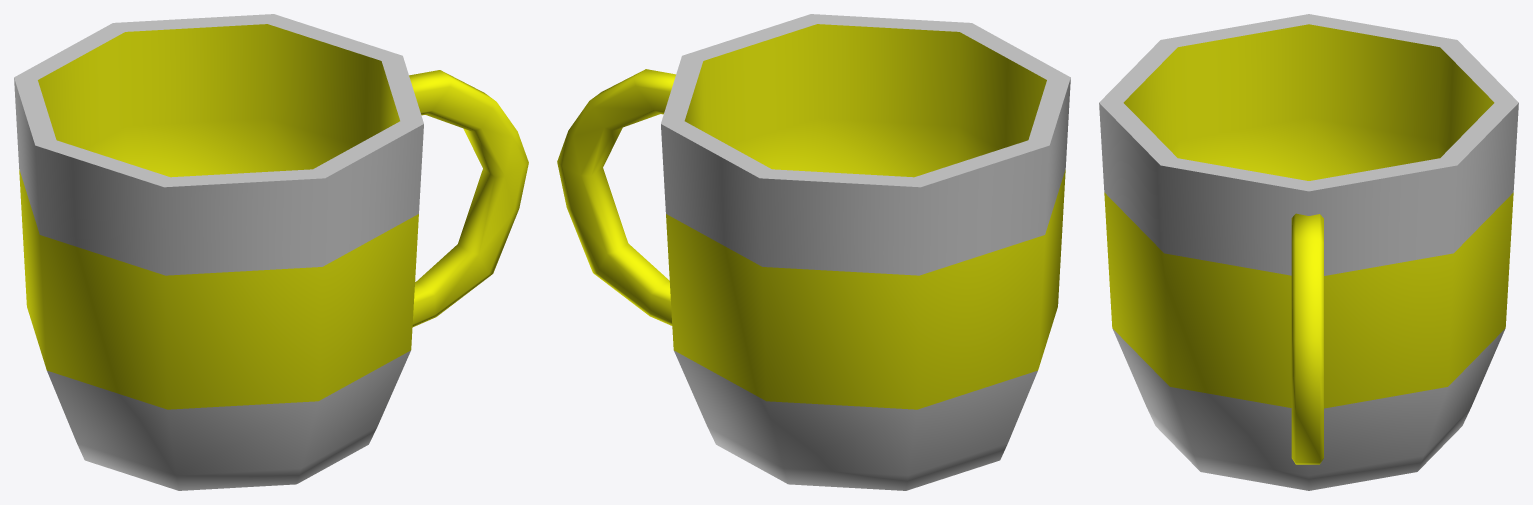
Rendered from Coffee_Cup_16.FBX.
The picture shows the model from 3 angles, left to right: view 1: azimuth 30°, elevation 25°; view 2: azimuth 150°, elevation 25°; view 3: azimuth 270°, elevation 25°; orthographic projection.
Visible parts, largest first — view 1: Coffee Cup; view 2: Coffee Cup; view 3: Coffee Cup.
Boxes of the visible parts, left/top/right/bottom form: Coffee Cup: left=14, top=14, right=528, bottom=490; Coffee Cup: left=557, top=14, right=1070, bottom=490; Coffee Cup: left=1099, top=14, right=1518, bottom=490.
Bounding box in the file's own units: 44.01 × 28.24 × 33.22.
